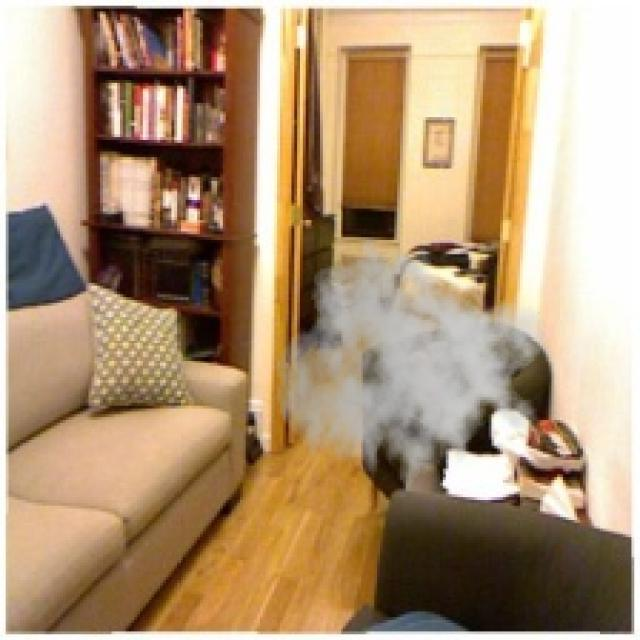Smoke: (274, 234, 549, 503)
